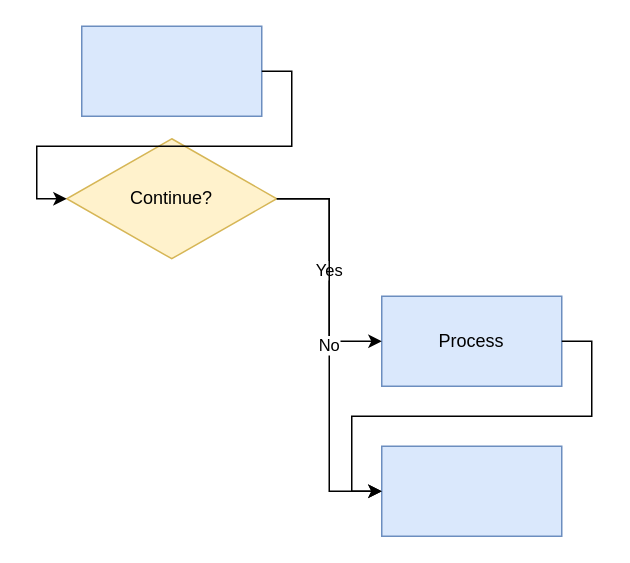
The diagram is 630 pixels wide and 563 high, and some of its shapes have lost their labels. Each missing label, with the centre of its shape:
End: point (471, 490)
Start: point (171, 70)
